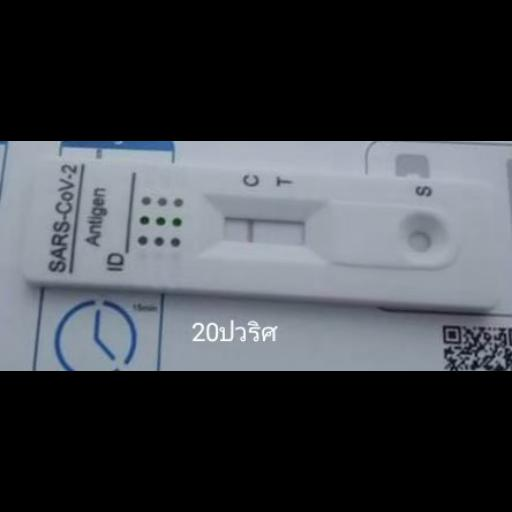Neg: (22, 155, 502, 306)
